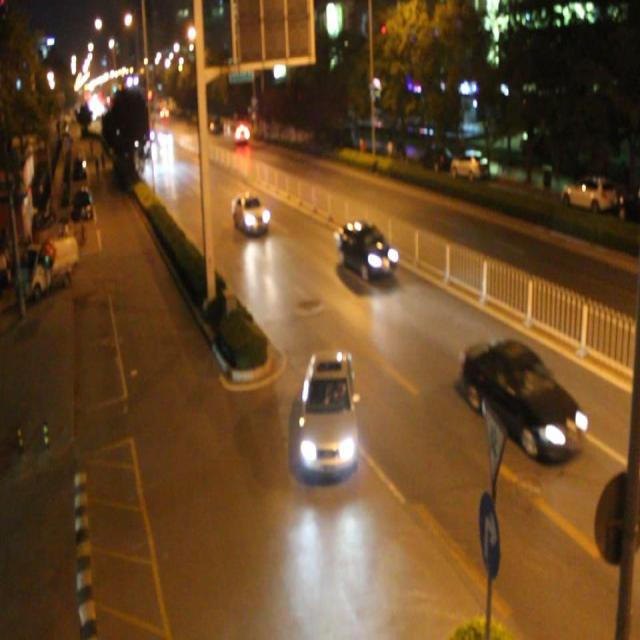car: (462, 334, 588, 464), (299, 348, 357, 476), (335, 218, 399, 283), (230, 193, 269, 234), (233, 123, 250, 144), (158, 129, 174, 150)
